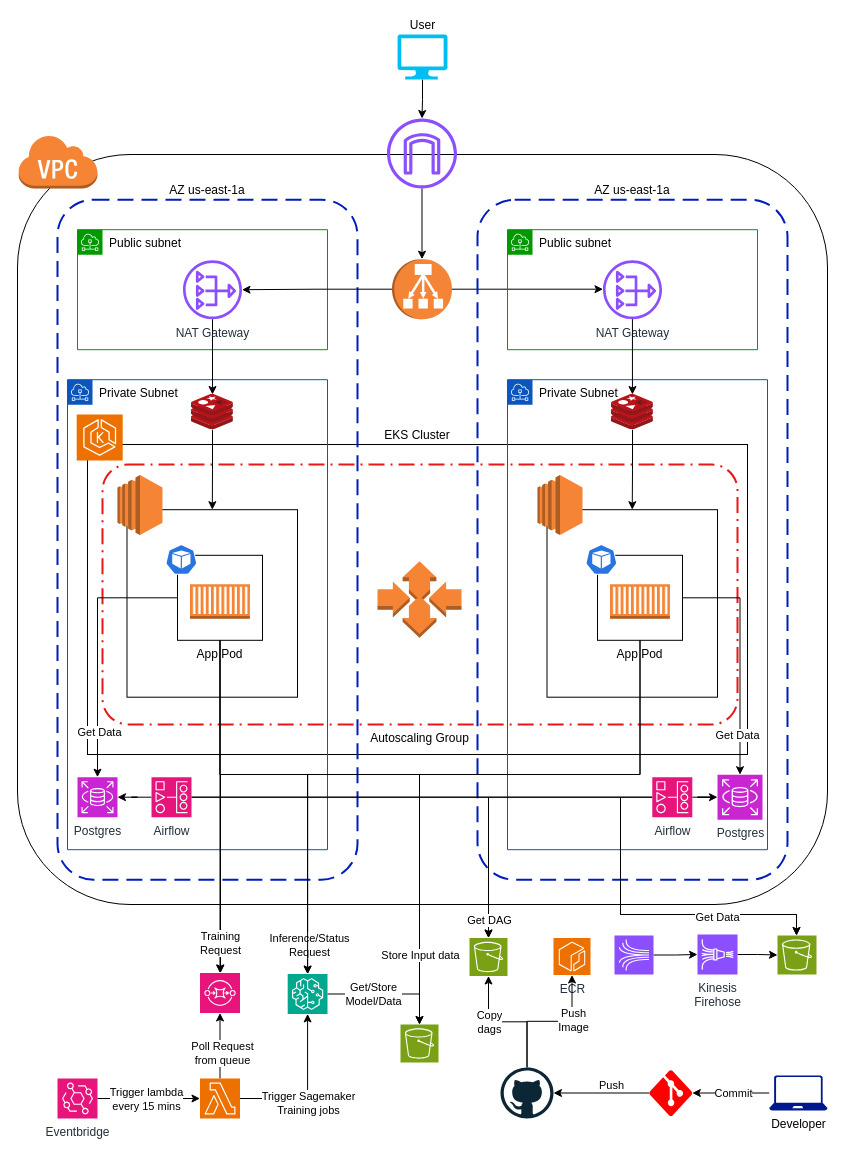
This 847x1156 diagram has some shape labels left out. The box of each missing label's shape, as (x1, y1, x2, y2) in pixels:
ALB: (391, 258, 452, 319)
Dags Bucket: (468, 937, 508, 976)
Data Bucket: (776, 934, 816, 974)
Git: (649, 1070, 692, 1116)
Github Actions: (500, 1066, 554, 1118)
Internet Gateway: (386, 118, 456, 188)
Kinesis Data Stream: (614, 934, 654, 974)
lambda: (199, 1078, 240, 1118)
Model Bucket: (400, 1024, 438, 1062)
Sagemaker: (287, 973, 328, 1014)
SQS: (199, 972, 240, 1013)
